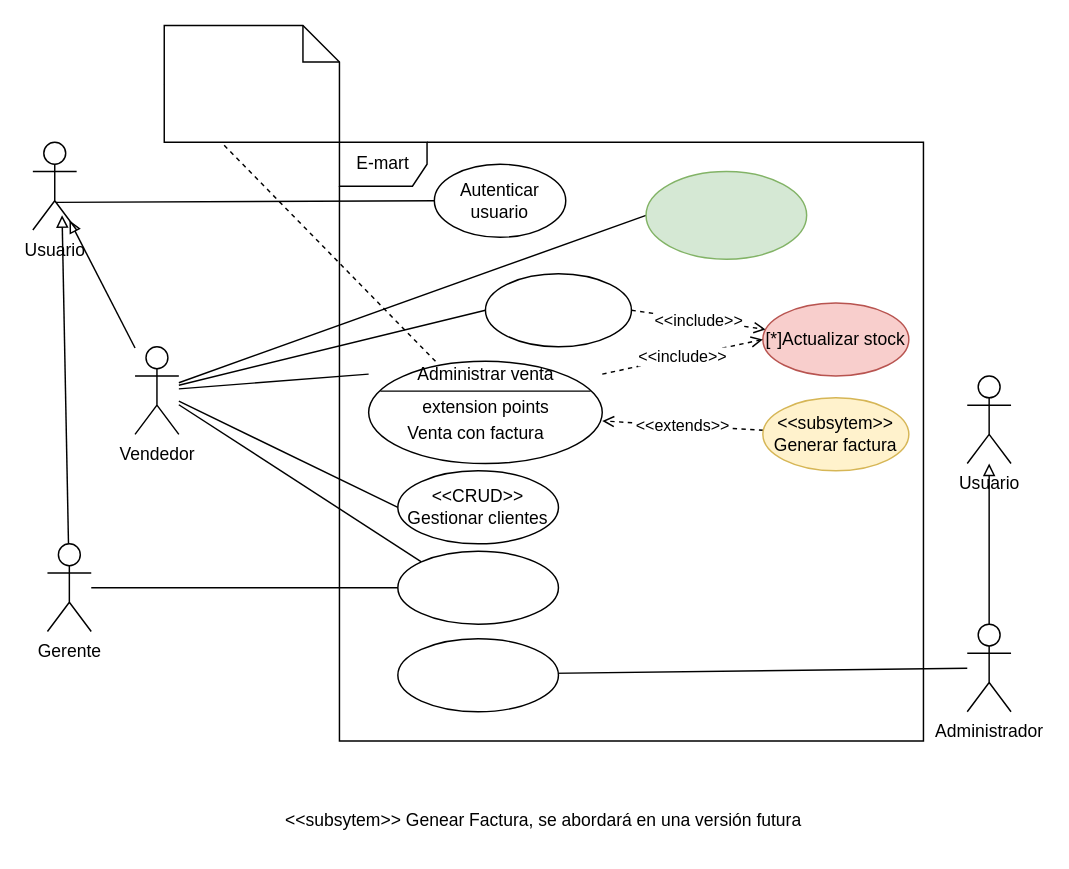
Image size: 1069x869. Some labels were removed from this diagram. Here are the shapes that lost their labels. From the top down, the box of each, then its label:
(163, 24, 339, 142): Lista de venta Registrar venta Anular venta
(645, 170, 807, 259): <<CRUD>> Gestionar productos
(484, 272, 631, 347): Registrar Compras
(396, 550, 558, 624): Generar Reportes
(396, 637, 558, 712): <<CRUD>> Gestionar usuarios
